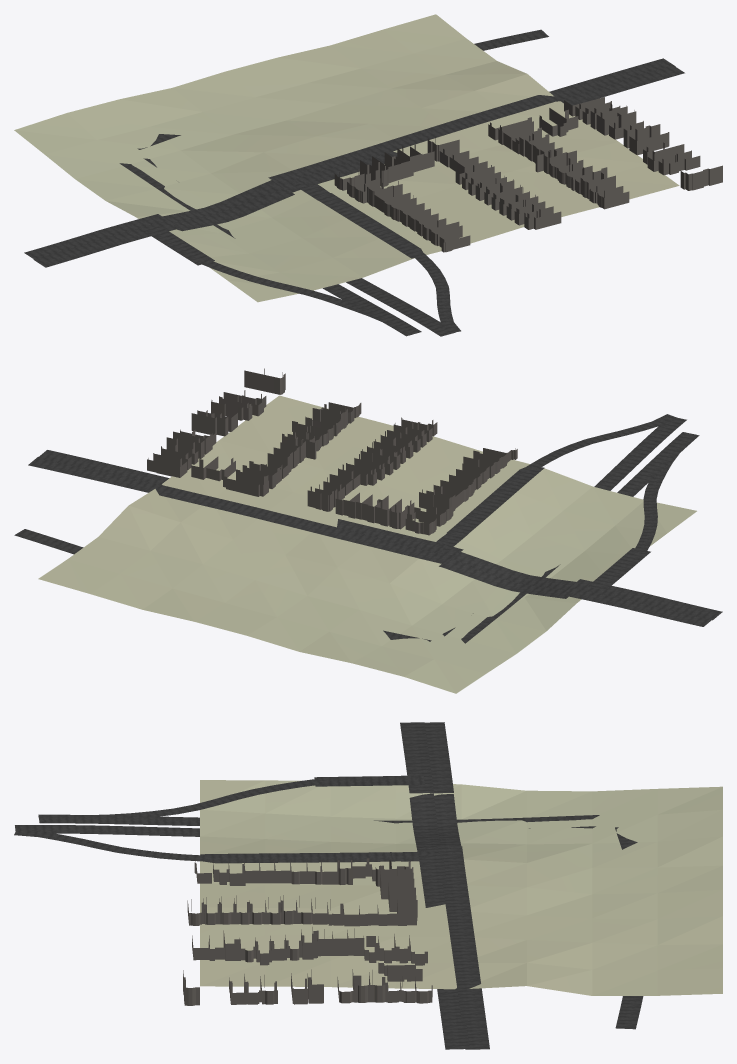
The model's file is tile_6_-25_lod1.gltf.
The picture shows the model from 3 angles, top to bottom: view 1: azimuth 30°, elevation 25°; view 2: azimuth 150°, elevation 25°; view 3: azimuth 270°, elevation 25°; orthographic projection. The views are drawn at different scales.
Visible parts, largest first — view 1: Terrain_col, Roads, Buildings_col; view 2: Terrain_col, Roads, Buildings_col; view 3: Terrain_col, Roads, Buildings_col.
Part boxes in pixels (<box>): Terrain_col: <box>14,14,679,302</box>; Roads: <box>24,29,684,336</box>; Buildings_col: <box>334,97,722,252</box>; Terrain_col: <box>38,395,696,693</box>; Roads: <box>14,414,722,643</box>; Buildings_col: <box>147,368,517,535</box>; Terrain_col: <box>200,780,722,995</box>; Roads: <box>14,722,643,1049</box>; Buildings_col: <box>183,856,432,1005</box>.
Size of the model in its own units: 401 by 24.1 by 347.
3 materials, 1 textured.
